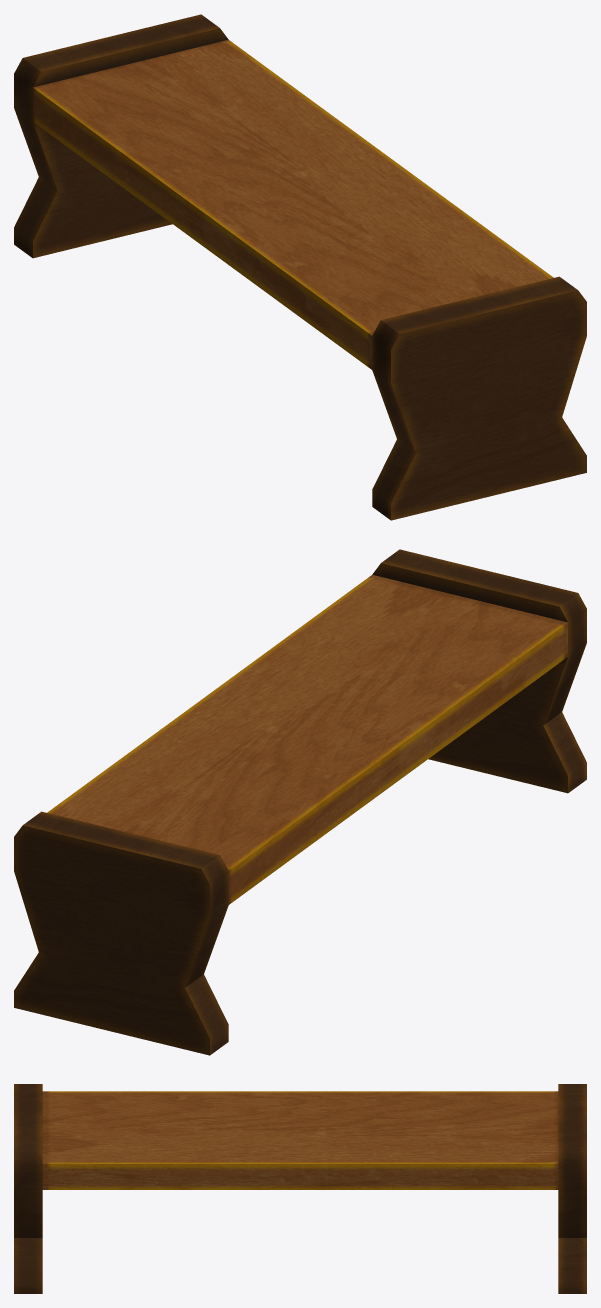
File: prop_museum_chair.fbx
The picture shows the model from 3 angles, top to bottom: view 1: azimuth 30°, elevation 25°; view 2: azimuth 150°, elevation 25°; view 3: azimuth 270°, elevation 25°; orthographic projection. The views are drawn at different scales.
Parts seen in each view (by area): view 1: prop_showroom_chair; view 2: prop_showroom_chair; view 3: prop_showroom_chair.
Boxes of the visible parts, x1=… form: prop_showroom_chair: x1=14, y1=14, x2=586, y2=520; prop_showroom_chair: x1=14, y1=549, x2=586, y2=1055; prop_showroom_chair: x1=14, y1=1084, x2=586, y2=1293.
Bounding box in the file's own units: 60 × 54 × 200.
